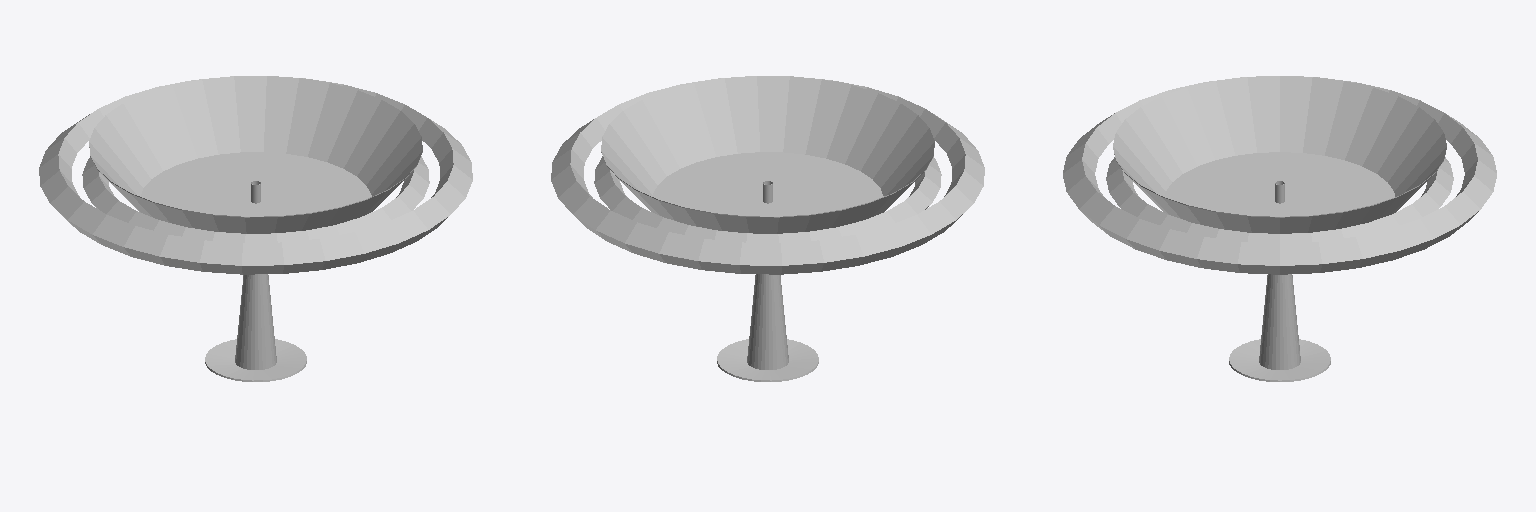
File: final arenav1.obj
3 views of the same model, side by side, from view 1: azimuth 30°, elevation 25°; view 2: azimuth 150°, elevation 25°; view 3: azimuth 270°, elevation 25° (orthographic).
Visible parts, largest first — view 1: Cylinder, Cylinder_Plate.001, Cylinder_Plate; view 2: Cylinder, Cylinder_Plate.001, Cylinder_Plate; view 3: Cylinder, Cylinder_Plate.001, Cylinder_Plate.
Boxes of the visible parts, <box> form: Cylinder: <box>89,76,422,381</box>; Cylinder_Plate.001: <box>39,78,472,274</box>; Cylinder_Plate: <box>82,156,429,242</box>; Cylinder: <box>601,76,934,381</box>; Cylinder_Plate.001: <box>551,78,984,274</box>; Cylinder_Plate: <box>594,156,941,242</box>; Cylinder: <box>1113,76,1446,381</box>; Cylinder_Plate.001: <box>1063,77,1496,274</box>; Cylinder_Plate: <box>1106,157,1453,242</box>.
Bounding box in the file's own units: 313 × 174 × 313.